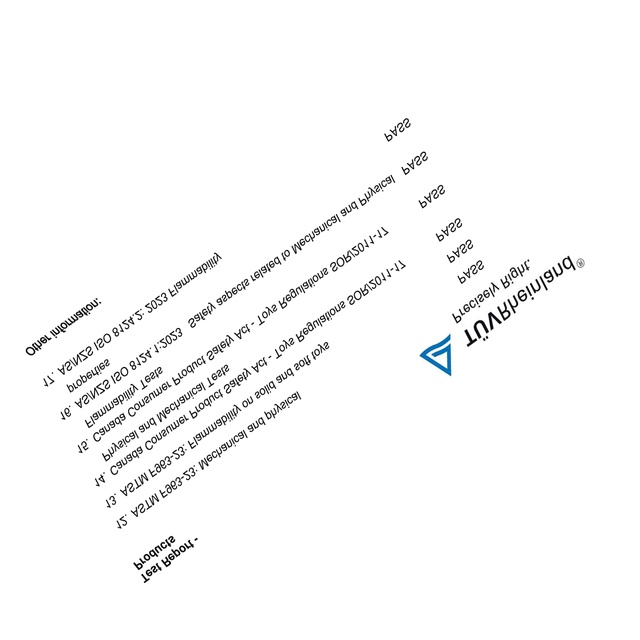tuv_rheinland: (417, 249, 585, 378)
